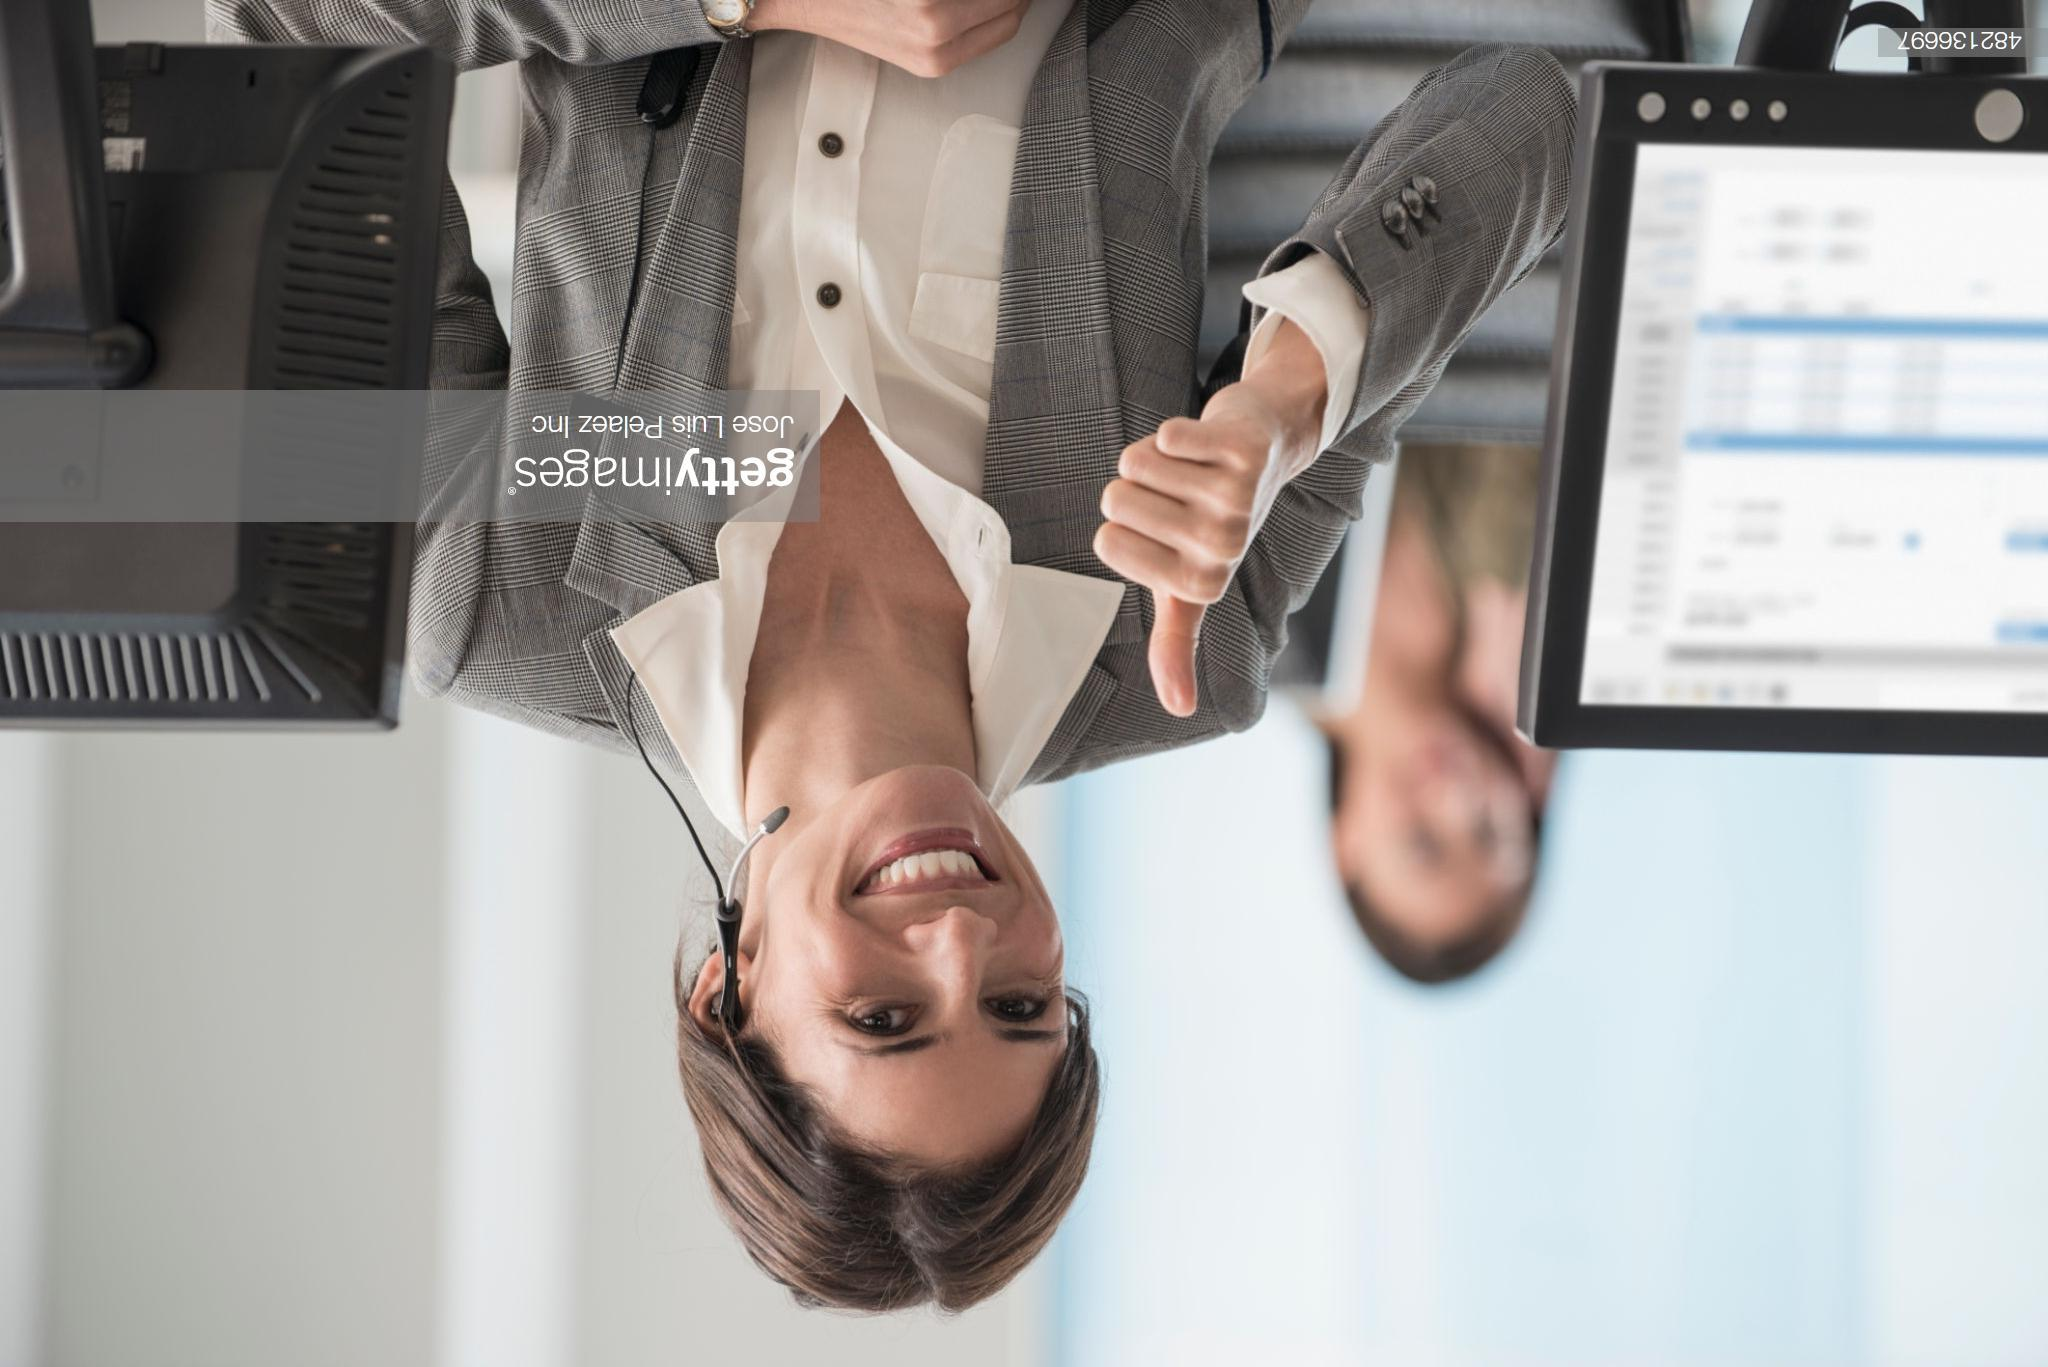thumbsdown: (1090, 413, 1275, 720)
